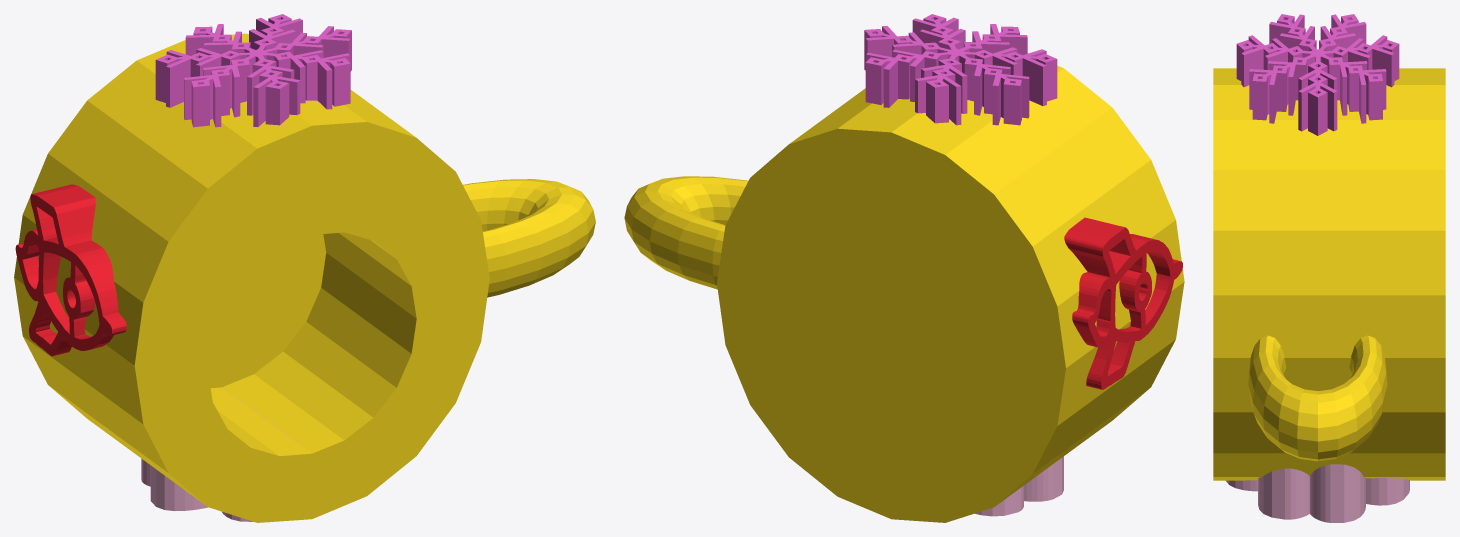
File: tinker.obj
3 renders of one model, left to right at view 1: azimuth 30°, elevation 25°; view 2: azimuth 150°, elevation 25°; view 3: azimuth 270°, elevation 25°, orthographic. The views are drawn at different scales.
Parts seen in each view (by area): view 1: group_0_16768282, group_0_15295698, group_0_15277357, group_0_15708628; view 2: group_0_16768282, group_0_15295698, group_0_15277357, group_0_15708628; view 3: group_0_16768282, group_0_15295698, group_0_15708628.
Part boxes in pixels (bbox=[...]): group_0_16768282: bbox=[14, 33, 595, 522]; group_0_15295698: bbox=[155, 14, 351, 127]; group_0_15277357: bbox=[15, 184, 126, 356]; group_0_15708628: bbox=[141, 387, 300, 521]; group_0_16768282: bbox=[624, 53, 1184, 522]; group_0_15295698: bbox=[864, 14, 1057, 125]; group_0_15277357: bbox=[1064, 217, 1182, 389]; group_0_15708628: bbox=[975, 456, 1063, 516]; group_0_16768282: bbox=[1213, 68, 1445, 480]; group_0_15295698: bbox=[1236, 14, 1399, 135]; group_0_15708628: bbox=[1226, 464, 1409, 522].
Size of the model in its own units: 49.89 by 39 by 20.
